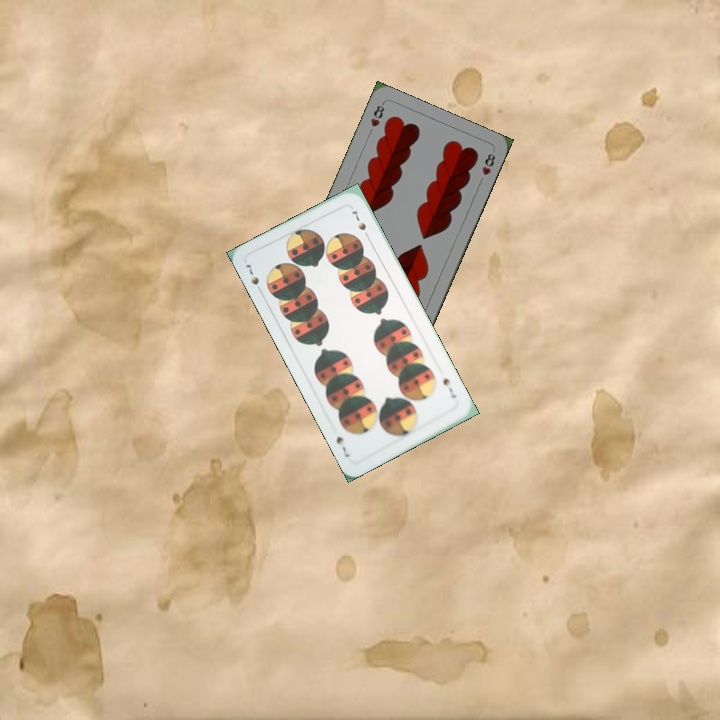H8: (364, 99, 387, 138)
S7: (241, 259, 265, 296), (439, 374, 459, 401)
